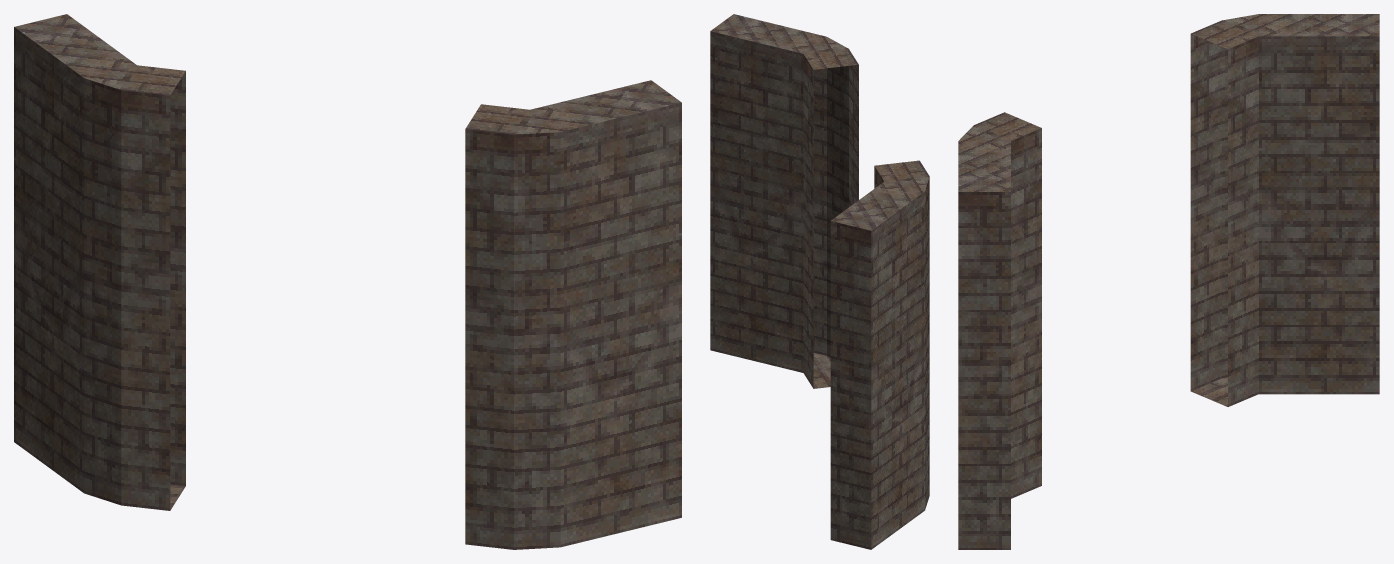
The model's file is wall_45degreeCorners_01.gltf.
The picture shows the model from 3 angles, left to right: view 1: azimuth 30°, elevation 25°; view 2: azimuth 150°, elevation 25°; view 3: azimuth 270°, elevation 25°; orthographic projection. The views are drawn at different scales.
Visible parts, largest first — view 1: wall_45degreeCorners_01; view 2: wall_45degreeCorners_01; view 3: wall_45degreeCorners_01.
Part boxes in pixels (x1=…): wall_45degreeCorners_01: x1=14, y1=14, x2=681, y2=549; wall_45degreeCorners_01: x1=710, y1=14, x2=929, y2=549; wall_45degreeCorners_01: x1=958, y1=14, x2=1379, y2=549.
Size of the model in its own units: 3.2 by 3 by 3.2.
1 material, 1 textured.
